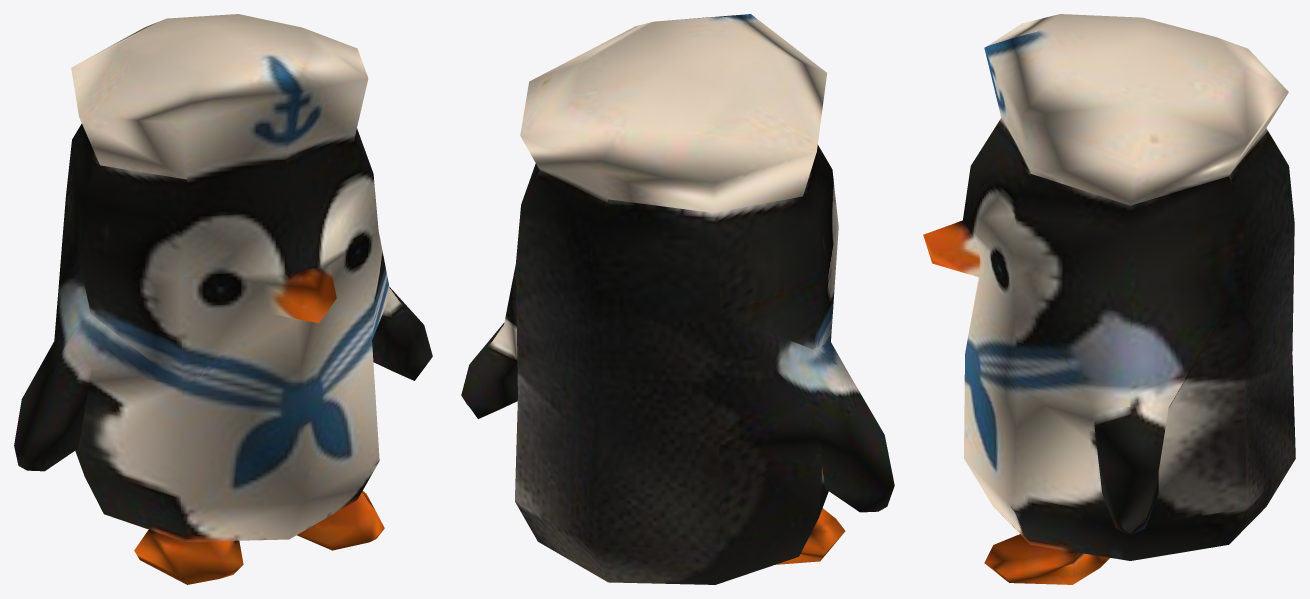
Rendered from penguin-felt-01-33-tiny-sailor.gltf.
The picture shows the model from 3 angles, left to right: view 1: azimuth 30°, elevation 25°; view 2: azimuth 150°, elevation 25°; view 3: azimuth 270°, elevation 25°; orthographic projection. The views are drawn at different scales.
Parts seen in each view (by area): view 1: penguin-felt-01-33-tiny-sailor; view 2: penguin-felt-01-33-tiny-sailor; view 3: penguin-felt-01-33-tiny-sailor.
Boxes of the visible parts, box(x1,y1,x2,y2) form: penguin-felt-01-33-tiny-sailor: box(14, 14, 432, 584); penguin-felt-01-33-tiny-sailor: box(461, 14, 894, 584); penguin-felt-01-33-tiny-sailor: box(923, 14, 1295, 584).
Bounding box in the file's own units: 0.2 × 0.2316 × 0.1552.
Materials: 1 (1 with a texture image).
